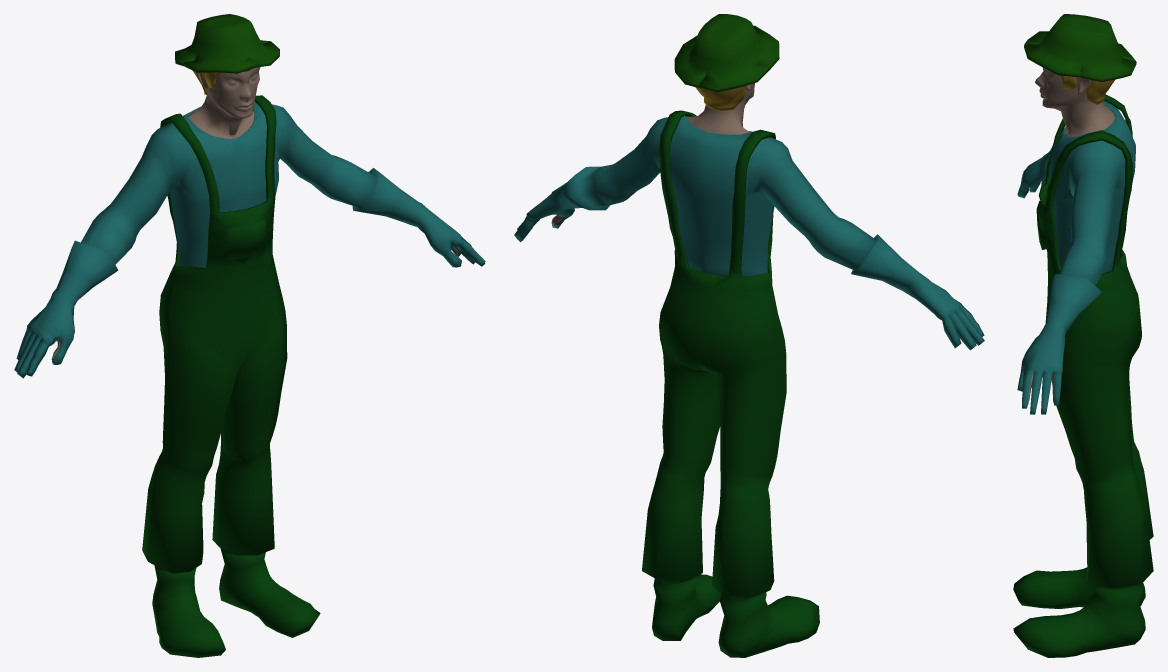
The model's file is player_male_version.fbx.
3 renders of one model, left to right at view 1: azimuth 30°, elevation 25°; view 2: azimuth 150°, elevation 25°; view 3: azimuth 270°, elevation 25°, orthographic.
Visible parts, largest first — view 1: Pants, Shirt, Hat, Body; view 2: Pants, Shirt, Hat, Body, Hair; view 3: Pants, Shirt, Hat, Body, Hair.
Boxes of the visible parts, x1,y1,x2,y2 form: Pants: (142,95,320,657); Shirt: (14,102,485,378); Hat: (175,14,279,73); Body: (51,67,459,360); Pants: (642,110,819,657); Shirt: (514,116,984,350); Hat: (674,14,779,92); Body: (551,83,973,324); Hair: (695,83,754,110); Pants: (1013,94,1153,657); Shirt: (1017,100,1135,414); Hat: (1024,14,1136,81); Body: (1022,67,1115,404); Hair: (1059,75,1115,104).
Bounding box in the file's own units: 173 × 215 × 45.4.
5 materials, 3 textured.
